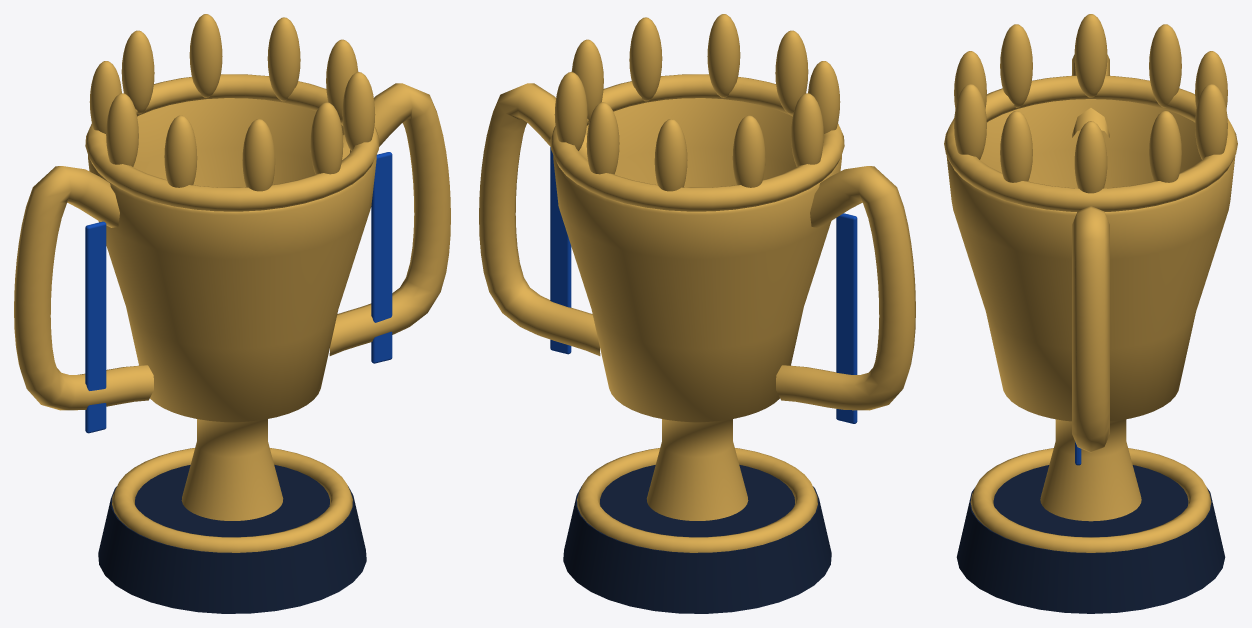
Rendered from blues-trophy-league.glb.
3 renders of one model, left to right at view 1: azimuth 30°, elevation 25°; view 2: azimuth 150°, elevation 25°; view 3: azimuth 270°, elevation 25°, orthographic.
Bounding box in the file's own units: 1.97 × 2.13 × 1.16.
